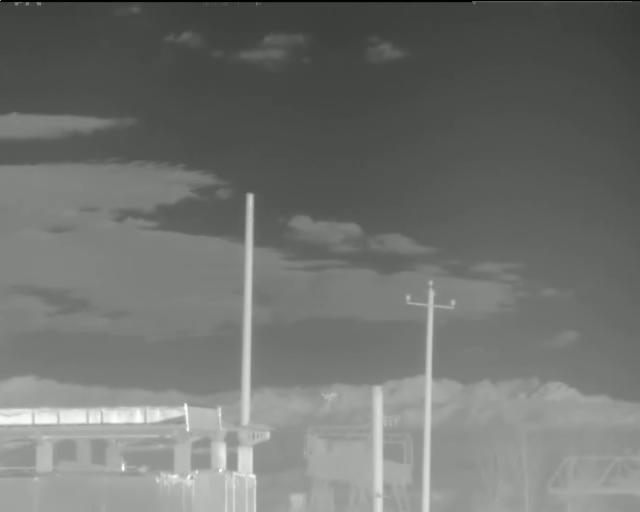uav: (320, 390, 339, 402)
